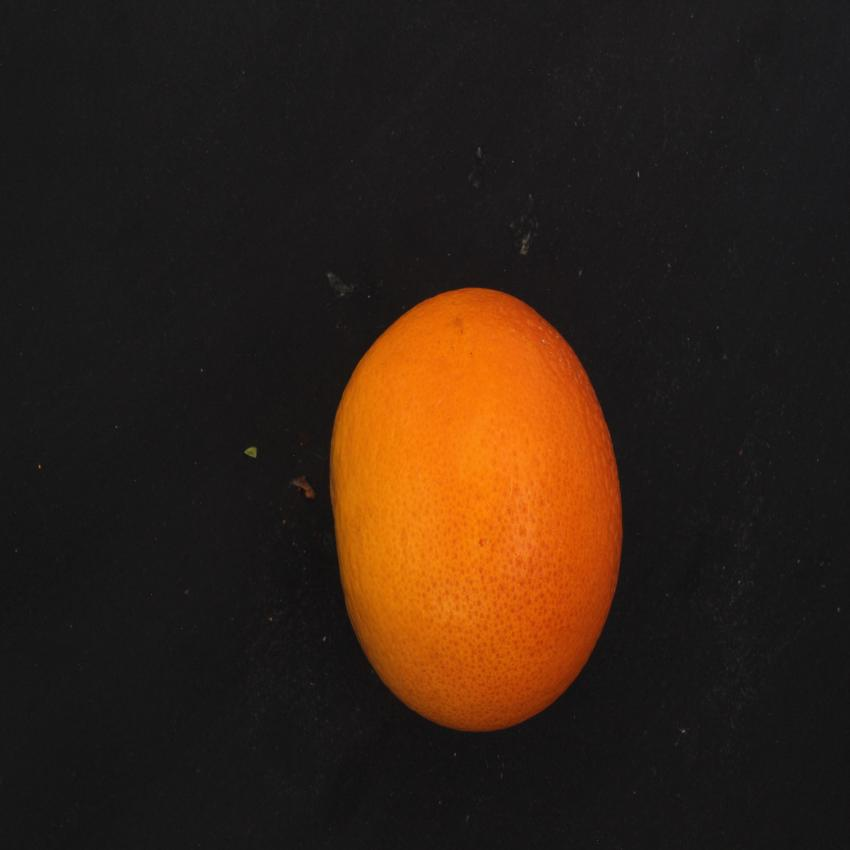Buen estado: (323, 279, 629, 745)
